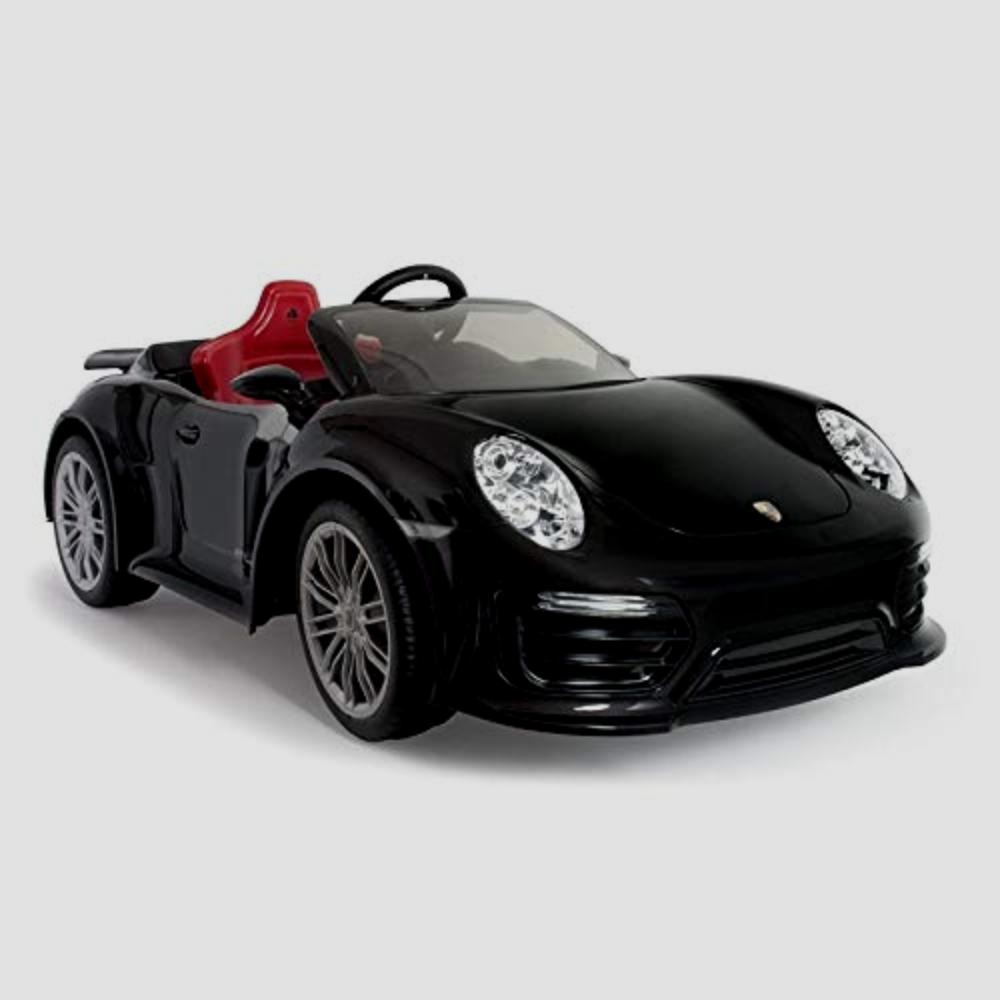porsche: (738, 490, 791, 534)
